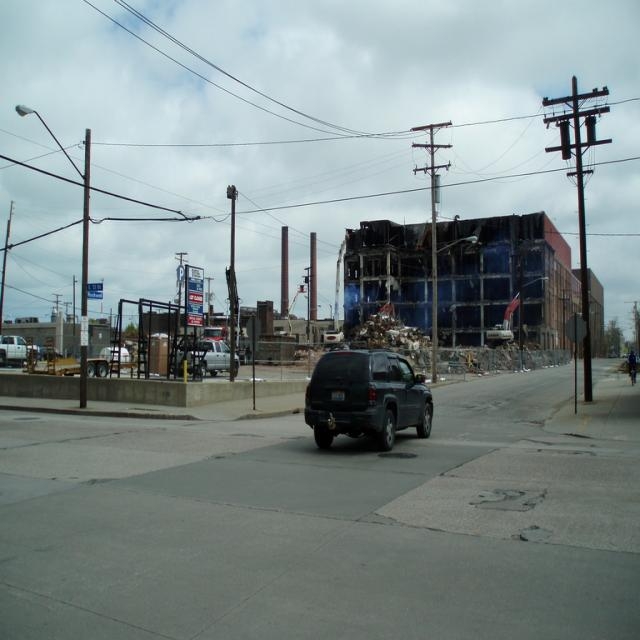car: (307, 347, 432, 448)
